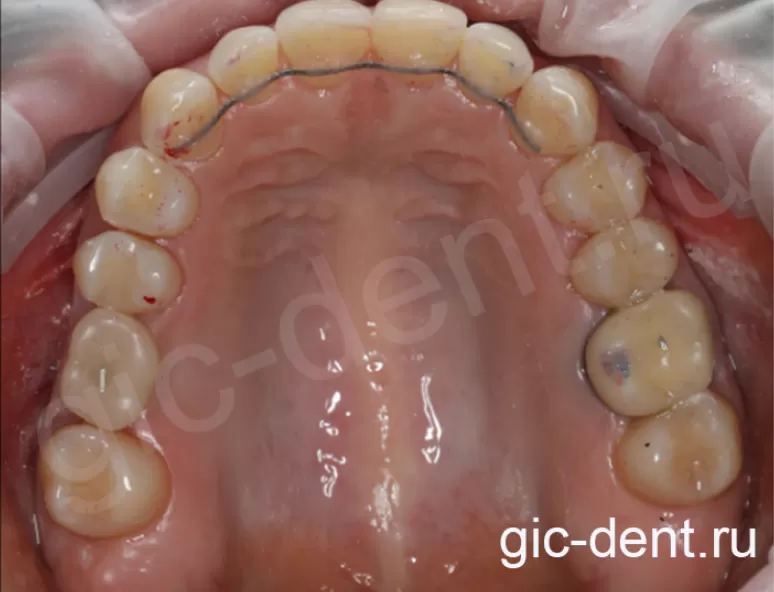UL1BC_healthy: (545, 151, 649, 221)
UL1M_decay: (589, 292, 715, 411)
UL2BC_healthy: (575, 225, 680, 301)
UL2M_decay: (620, 410, 741, 503)
ULCI_decay: (372, 4, 465, 80)
ULC_decay: (520, 72, 595, 157)
ULLI_decay: (464, 23, 531, 105)
UR1BC_healthy: (98, 154, 200, 232)
UR1M_healthy: (68, 318, 157, 425)
UR2BC_decay: (80, 237, 180, 315)
UR2M_healthy: (43, 432, 170, 531)
URCI_decay: (277, 1, 373, 80)
URC_decay: (143, 71, 226, 158)
URLI_decay: (212, 28, 281, 104)
